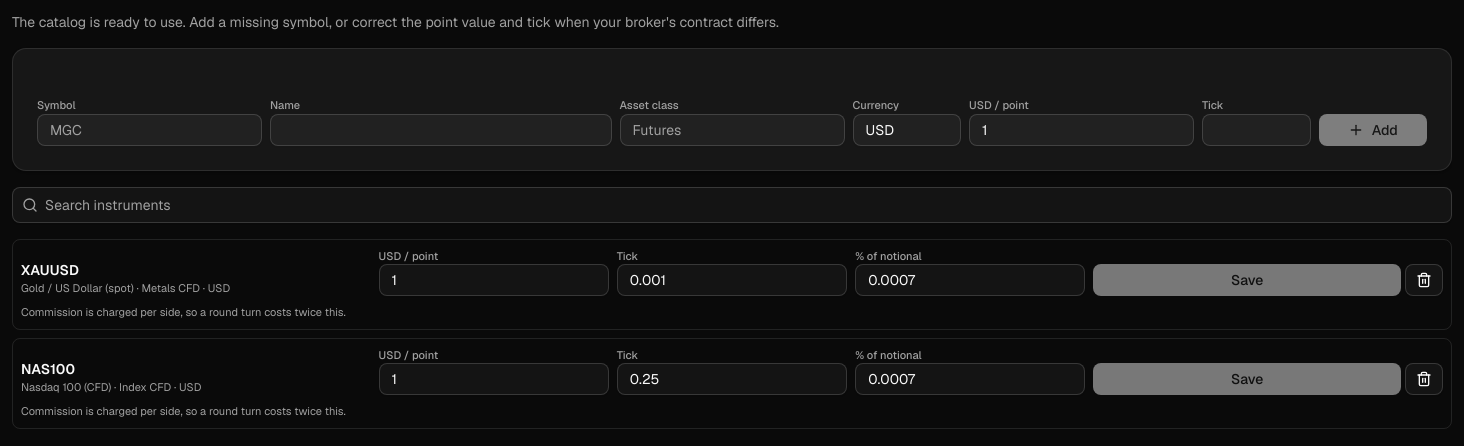
Scenario: finding a symbol › filters by symbol, name or asset class
Type "nasdaq" into the field labelled "Search instruments".
click(732, 204); type("nasdaq")  # box [12,186,1452,222]
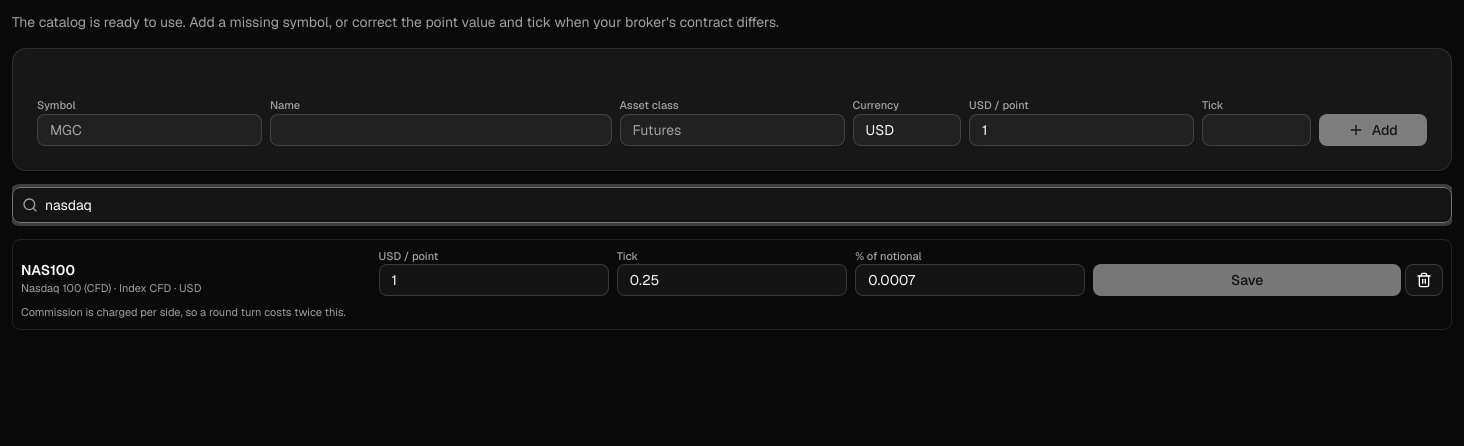
Expected: the text "NAS100" is shown, [21,260,75,278]
Expected: the text "XAUUSD" is gone
